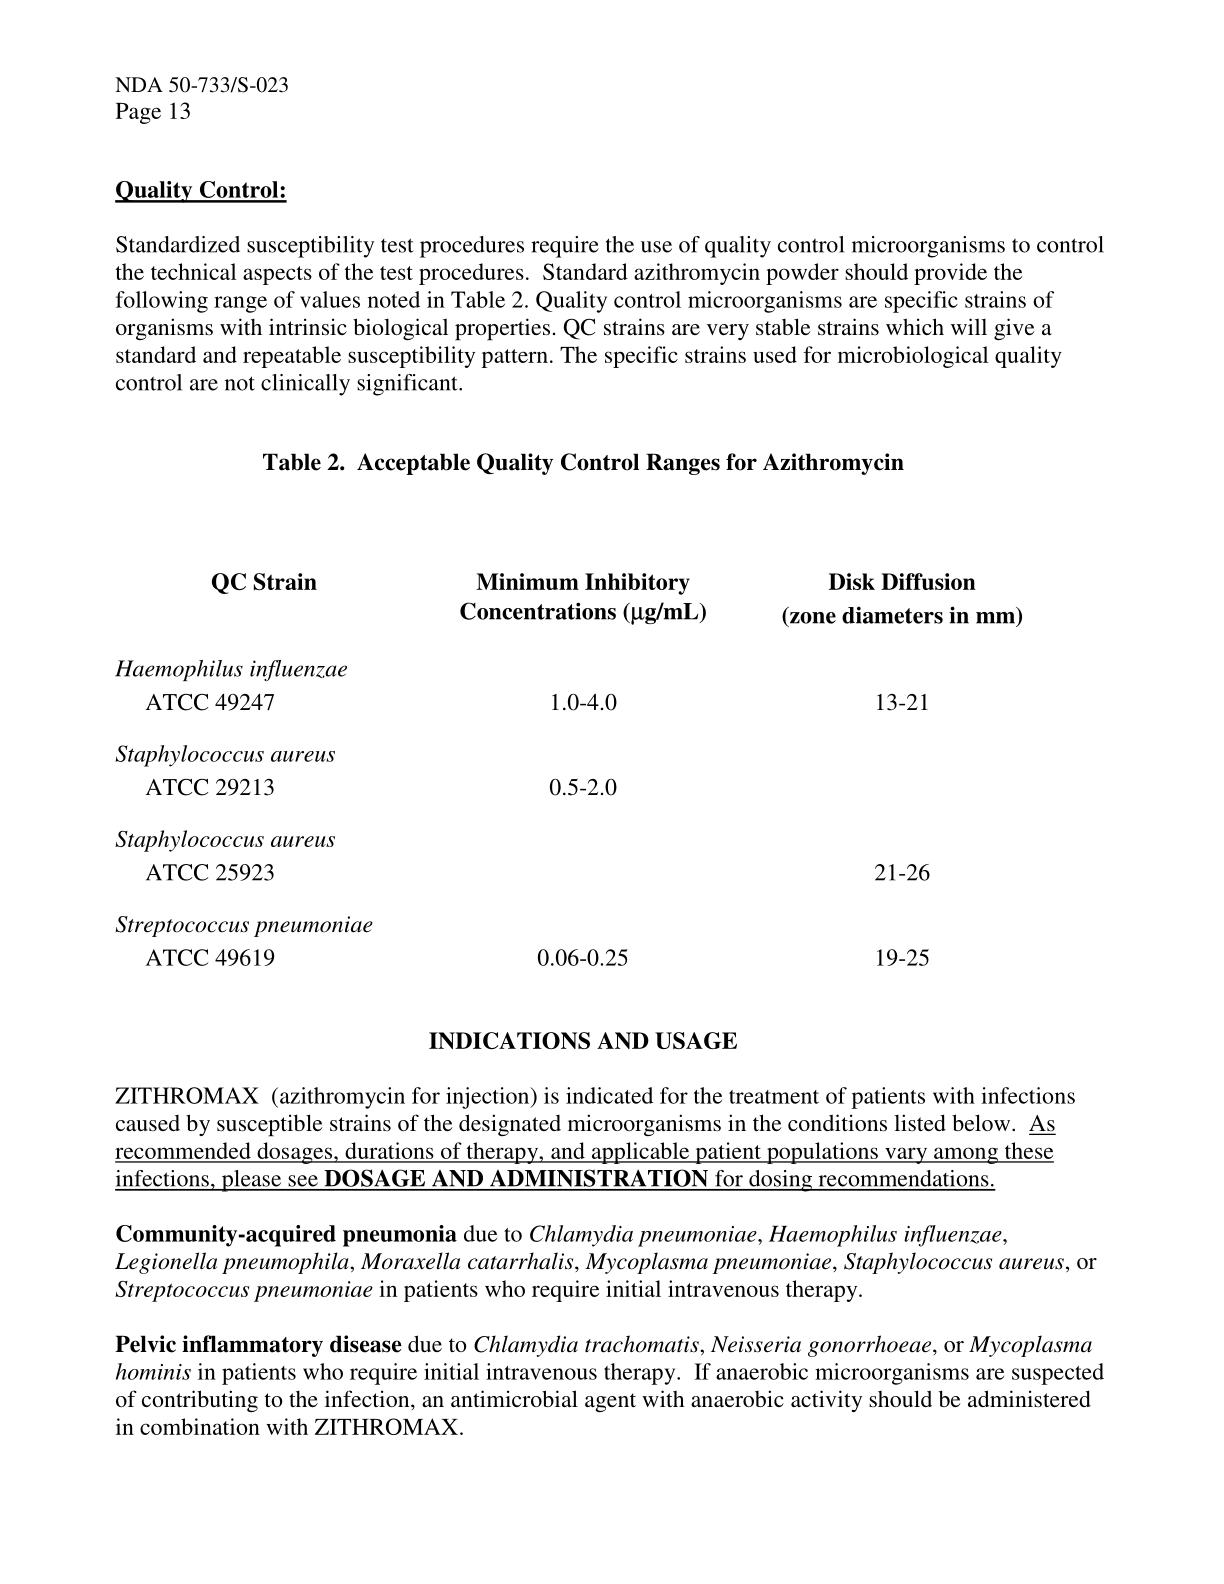nolines: (113, 572, 1023, 968)
